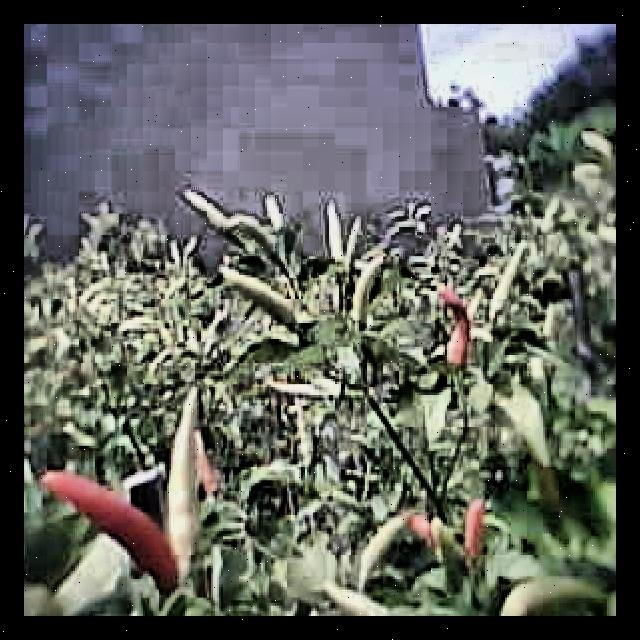Cabai: (39, 464, 176, 591), (428, 275, 482, 376), (441, 484, 517, 552)
